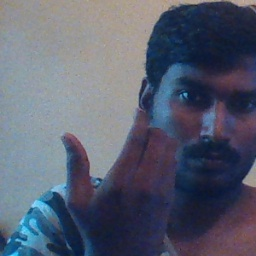U: (46, 101, 182, 240)
